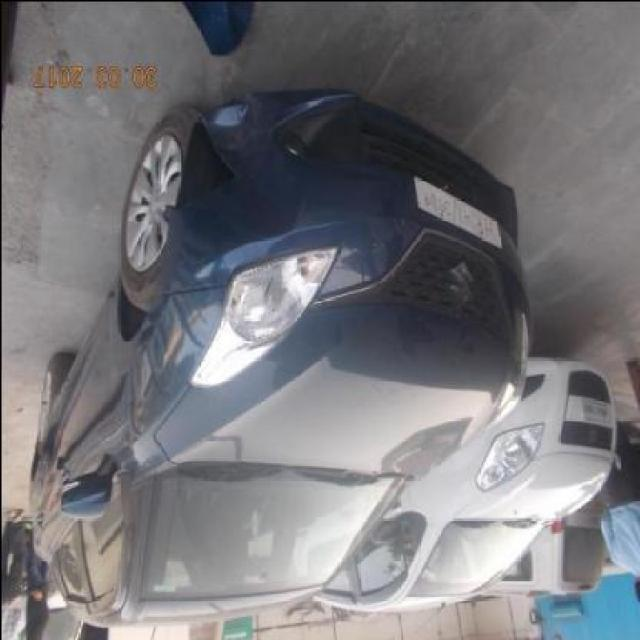damage: (197, 97, 266, 190)
